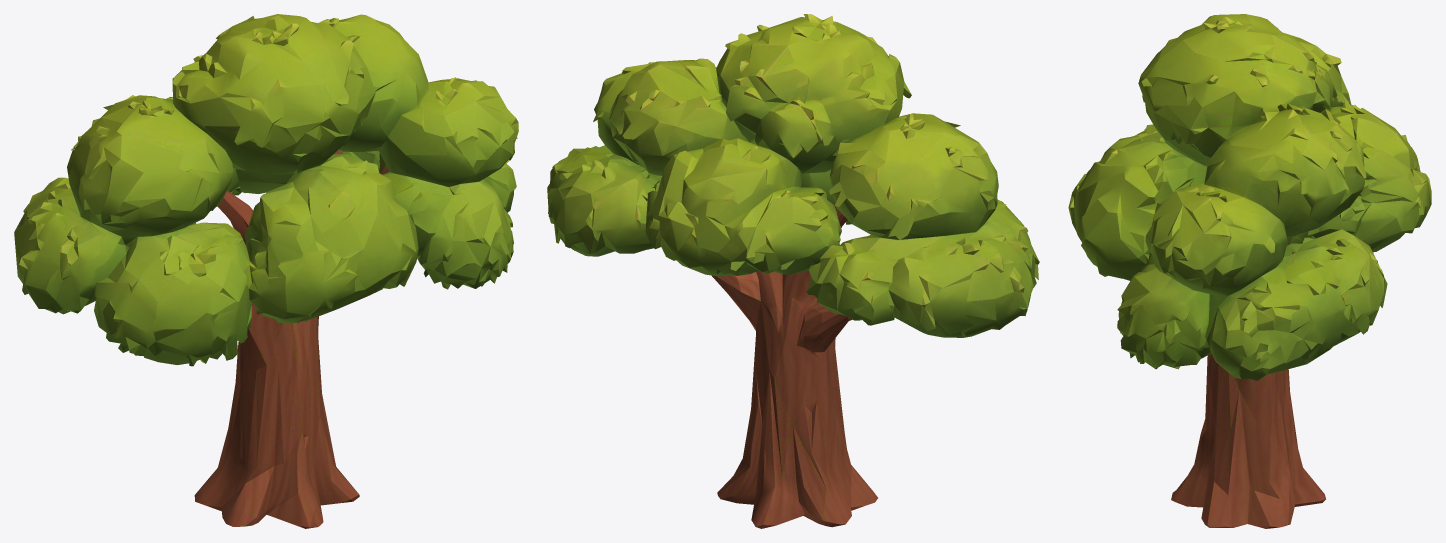
Rendered from tree_a.glb.
3 renders of one model, left to right at view 1: azimuth 30°, elevation 25°; view 2: azimuth 150°, elevation 25°; view 3: azimuth 270°, elevation 25°, orthographic. The views are drawn at different scales.
Visible parts, largest first — view 1: tree_a; view 2: tree_a; view 3: tree_a.
Part boxes in pixels (bbox=[...]): tree_a: bbox=[14, 14, 518, 528]; tree_a: bbox=[547, 14, 1039, 528]; tree_a: bbox=[1068, 14, 1431, 528].
Size of the model in its own units: 17.74 by 17 by 11.75.
Materials: 1 (1 with a texture image).
